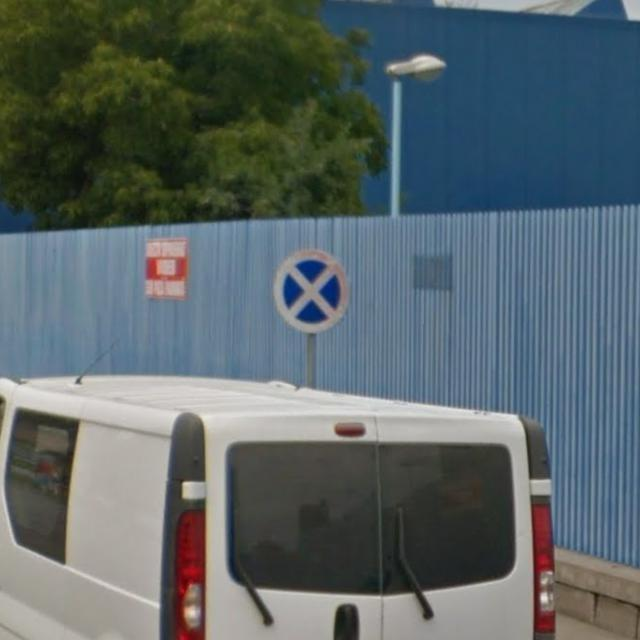forb_waiting: (271, 248, 348, 334)
